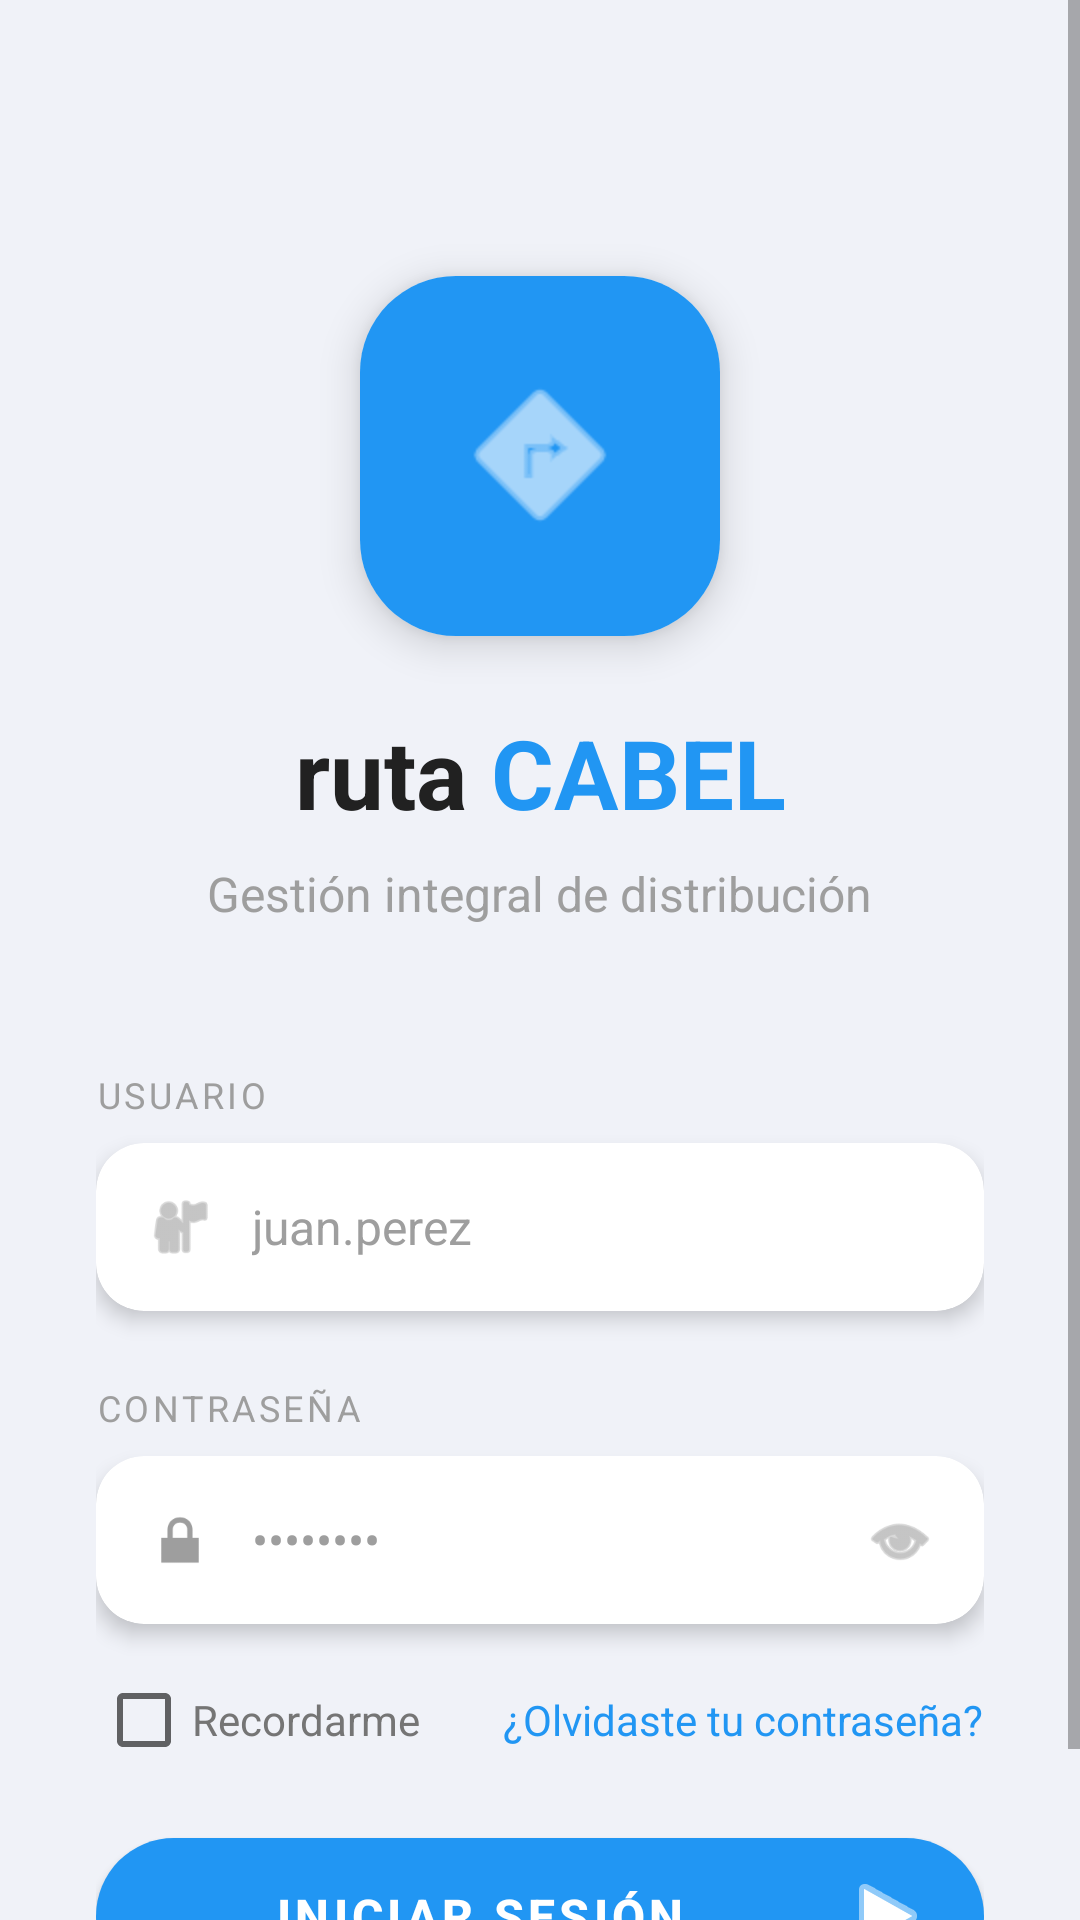

Named icons in this screenshot (1080 x 1920) and their centers, point (x, y):
directions: point (540, 455)
lock: point (180, 1540)
myplaces: point (181, 1227)
view: point (900, 1542)
